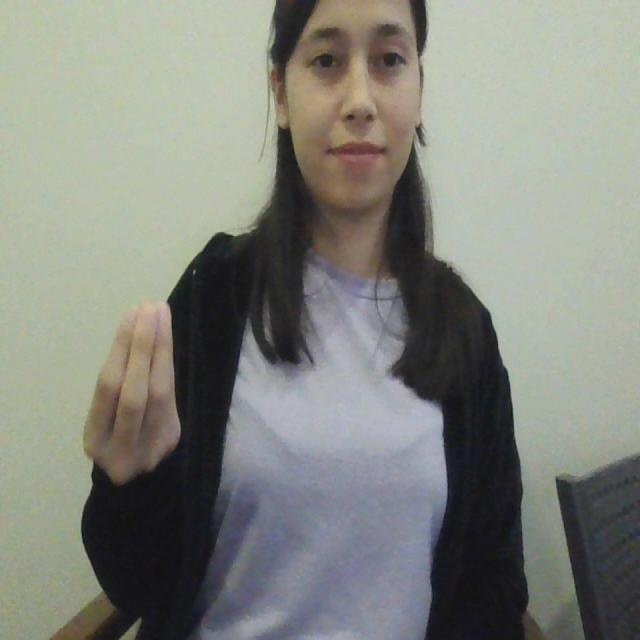iyi: (78, 290, 193, 489)
